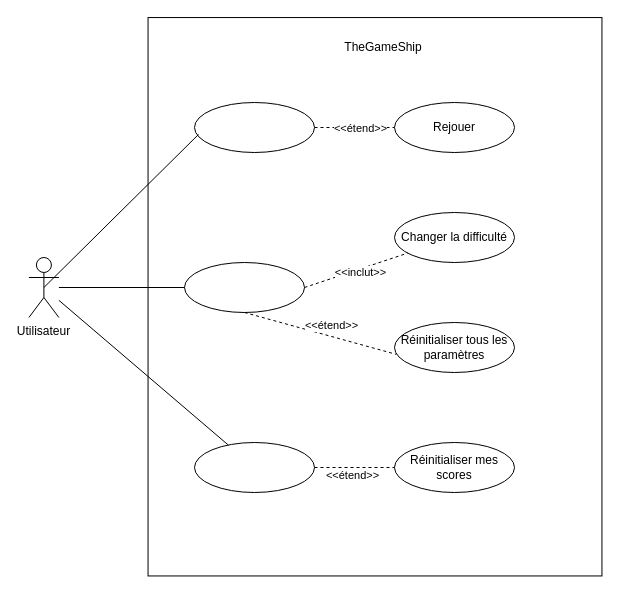
Some shapes in this 620 by 594 pixel diagram are drawn without their labels. The shapes that lost their labels are listed below. From the top down, each one's centre as x and y in pixels, then its label:
At point (254, 127): "Jouer".
At point (244, 287): "Changer les paramètres".
At point (254, 467): "Voir le LeaderBoard".
